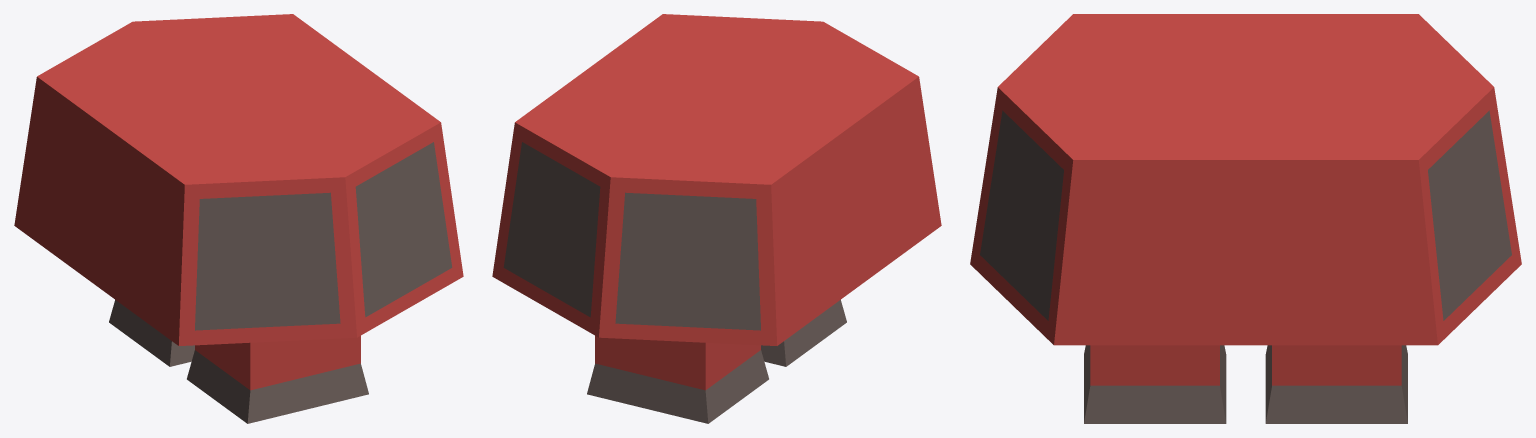
File: WoodLegs.fbx
3 views of the same model, side by side, from view 1: azimuth 30°, elevation 25°; view 2: azimuth 150°, elevation 25°; view 3: azimuth 270°, elevation 25° (orthographic). The views are drawn at different scales.
Visible parts, largest first — view 1: Leg Armour Wood; view 2: Leg Armour Wood; view 3: Leg Armour Wood.
Part boxes in pixels (left/top/right/bottom): Leg Armour Wood: left=14, top=14, right=463, bottom=423; Leg Armour Wood: left=492, top=14, right=941, bottom=423; Leg Armour Wood: left=970, top=14, right=1521, bottom=423.
Size of the model in its own units: 211 by 183 by 303.
